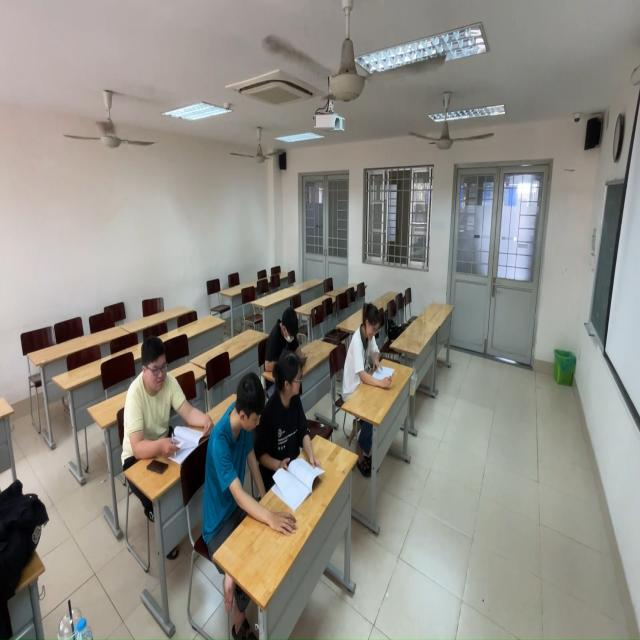read: (201, 365, 278, 563), (121, 340, 211, 472), (264, 353, 325, 511), (342, 289, 396, 400), (262, 295, 315, 375)
